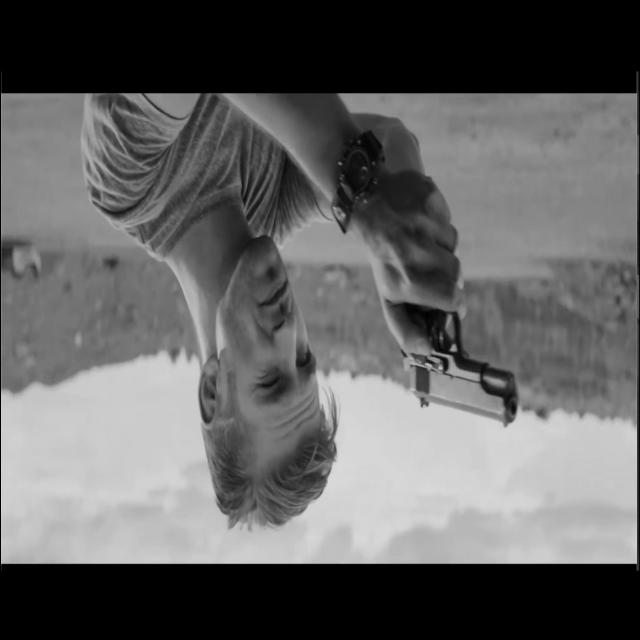weapons: (393, 242, 529, 448)
